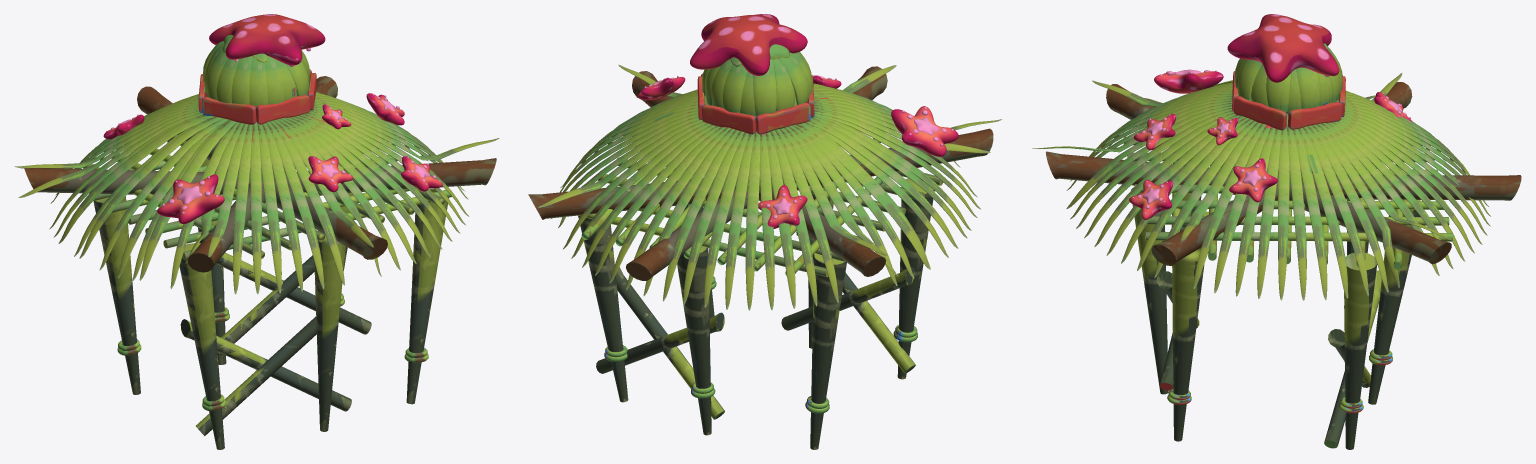
Rendered from Cabaña Equipo rojo.fbx.
3 renders of one model, left to right at view 1: azimuth 30°, elevation 25°; view 2: azimuth 150°, elevation 25°; view 3: azimuth 270°, elevation 25°, orthographic.
Visible parts, largest first — view 1: pSphere86.005, PolySphere_1, PolySphere_1.004, PolySphere_1.001, PolySphere_1.003, PolySphere_1.002; view 2: pSphere86.005, PolySphere_1, PolySphere_1.004, PolySphere_1.005, PolySphere_1.002; view 3: pSphere86.005, PolySphere_1, PolySphere_1.004, PolySphere_1.002, PolySphere_1.003, PolySphere_1.001, PolySphere_1.009.
Boxes of the visible parts, left/top/right/bottom form: pSphere86.005: left=14, top=35, right=499, bottom=449; PolySphere_1: left=209, top=14, right=325, bottom=66; PolySphere_1.004: left=157, top=174, right=224, bottom=223; PolySphere_1.001: left=308, top=156, right=353, bottom=192; PolySphere_1.003: left=401, top=156, right=442, bottom=191; PolySphere_1.002: left=366, top=93, right=404, bottom=125; pSphere86.005: left=528, top=44, right=1002, bottom=449; PolySphere_1: left=690, top=14, right=807, bottom=75; PolySphere_1.004: left=891, top=106, right=958, bottom=156; PolySphere_1.005: left=758, top=185, right=807, bottom=228; PolySphere_1.002: left=638, top=76, right=685, bottom=100; pSphere86.005: left=1032, top=43, right=1521, bottom=449; PolySphere_1: left=1227, top=14, right=1339, bottom=82; PolySphere_1.004: left=1154, top=69, right=1223, bottom=93; PolySphere_1.002: left=1229, top=158, right=1277, bottom=202; PolySphere_1.003: left=1129, top=179, right=1173, bottom=219; PolySphere_1.001: left=1133, top=114, right=1175, bottom=150; PolySphere_1.009: left=1207, top=117, right=1238, bottom=145.
Size of the model in its own units: 1195 by 1126 by 1326.
